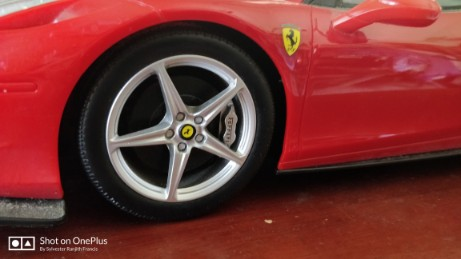unaligned_wheel: (61, 23, 288, 231)
